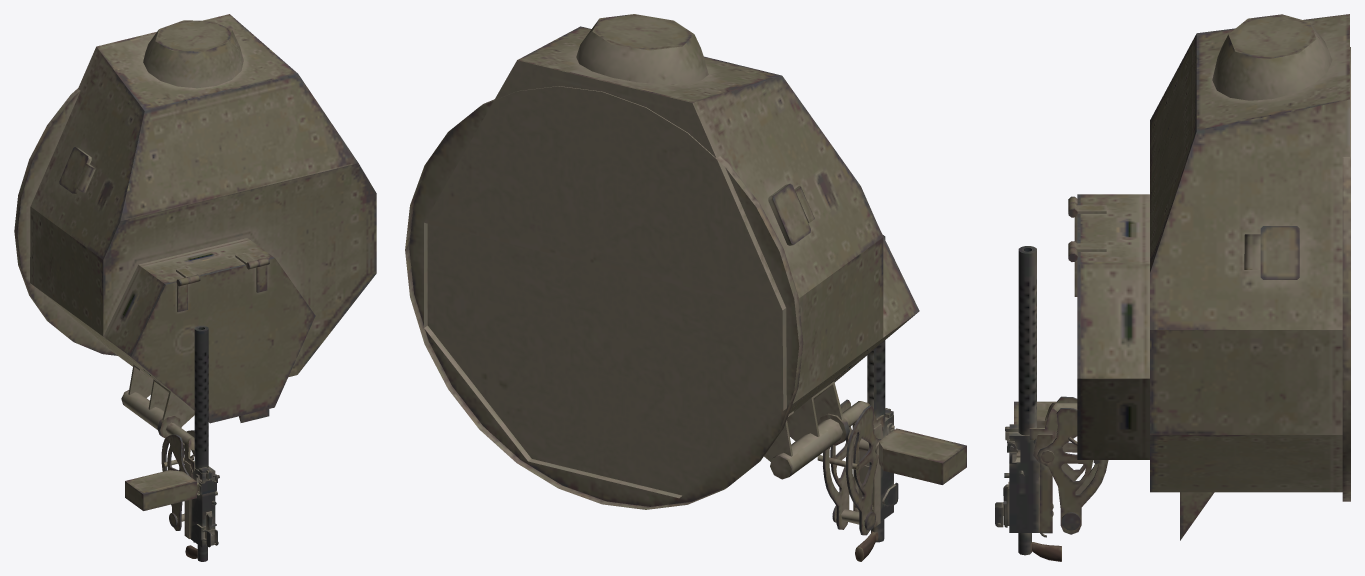
Rendered from Turret_01.glb.
The picture shows the model from 3 angles, left to right: view 1: azimuth 30°, elevation 25°; view 2: azimuth 150°, elevation 25°; view 3: azimuth 270°, elevation 25°; orthographic projection. The views are drawn at different scales.
Parts seen in each view (by area): view 1: set_0_group_0; view 2: set_0_group_0; view 3: set_0_group_0.
Part boxes in pixels (left/top/right/bottom): set_0_group_0: left=14, top=14, right=376, bottom=561; set_0_group_0: left=405, top=14, right=966, bottom=561; set_0_group_0: left=995, top=14, right=1350, bottom=561.
Size of the model in its own units: 1.38 by 1.94 by 1.08.
1 material, 1 textured.
